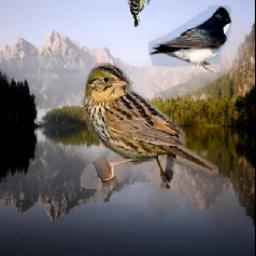Sparrow: (81, 64, 218, 190)
Swallow: (150, 5, 232, 72)
Woodpecker: (125, 0, 151, 27)
